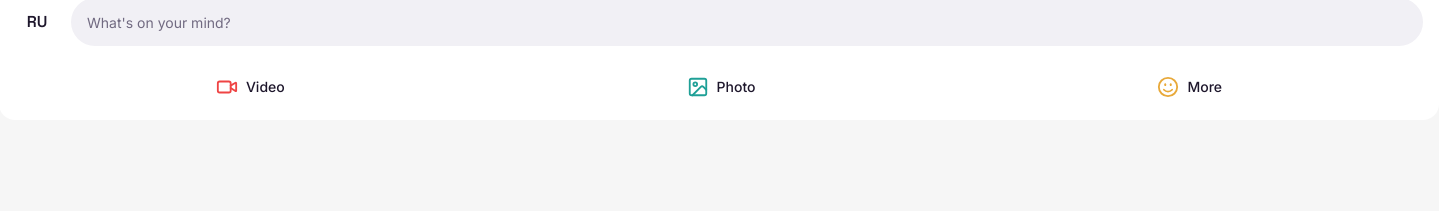
Test: PostComposer › shows a file picker only when the photo type is selected
Click the button with aria-label "Photo post". click: (721,87)
box: [675, 70, 768, 104]
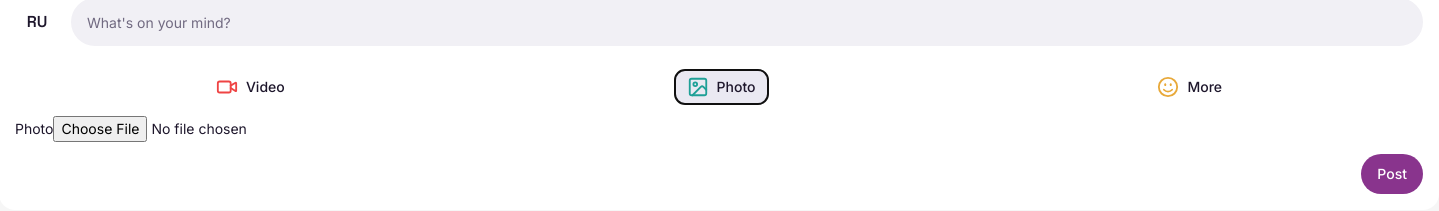
Expected: the file field labelled "Photo" is shown, [54, 116, 354, 142]
